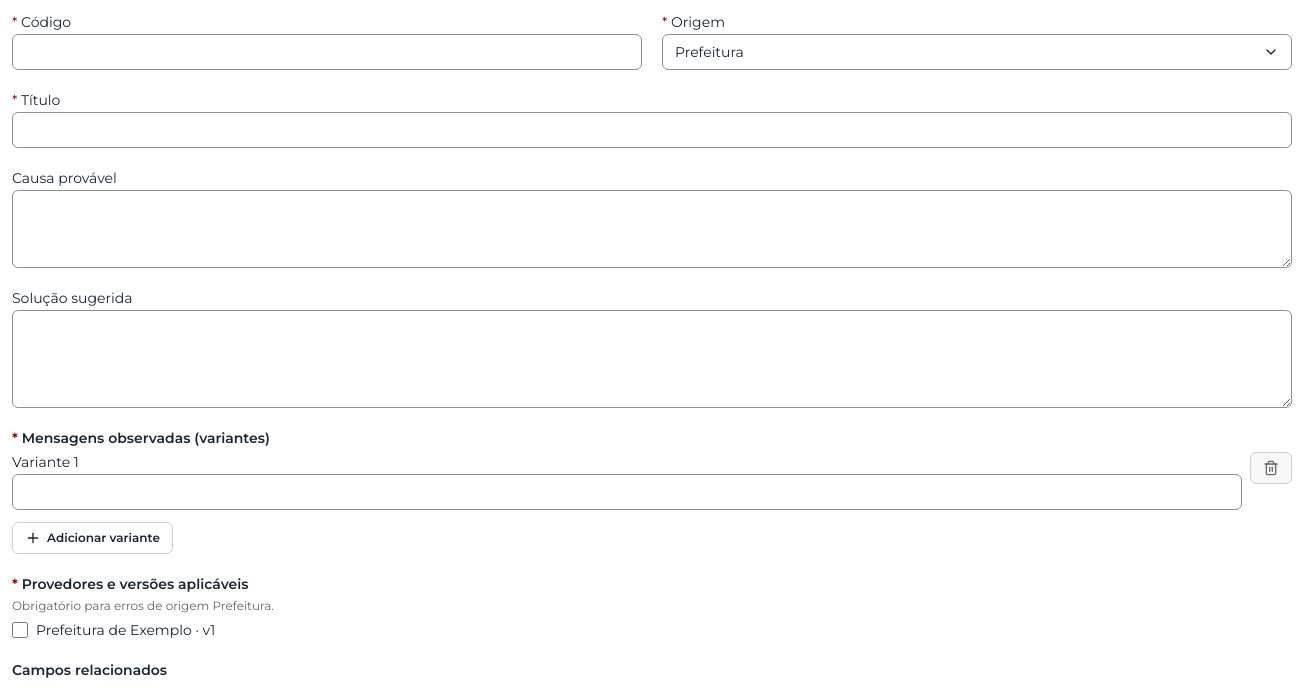
it: ErroForm › useFieldArray: adiciona e remove variantes de mensagem
Check: the field labelled "Variante 1" is shown, box [12, 474, 1242, 510]
Check: the field labelled "Variante 2" is not shown
Click the button "Adicionar variante" at (92, 538), box [12, 522, 173, 554]
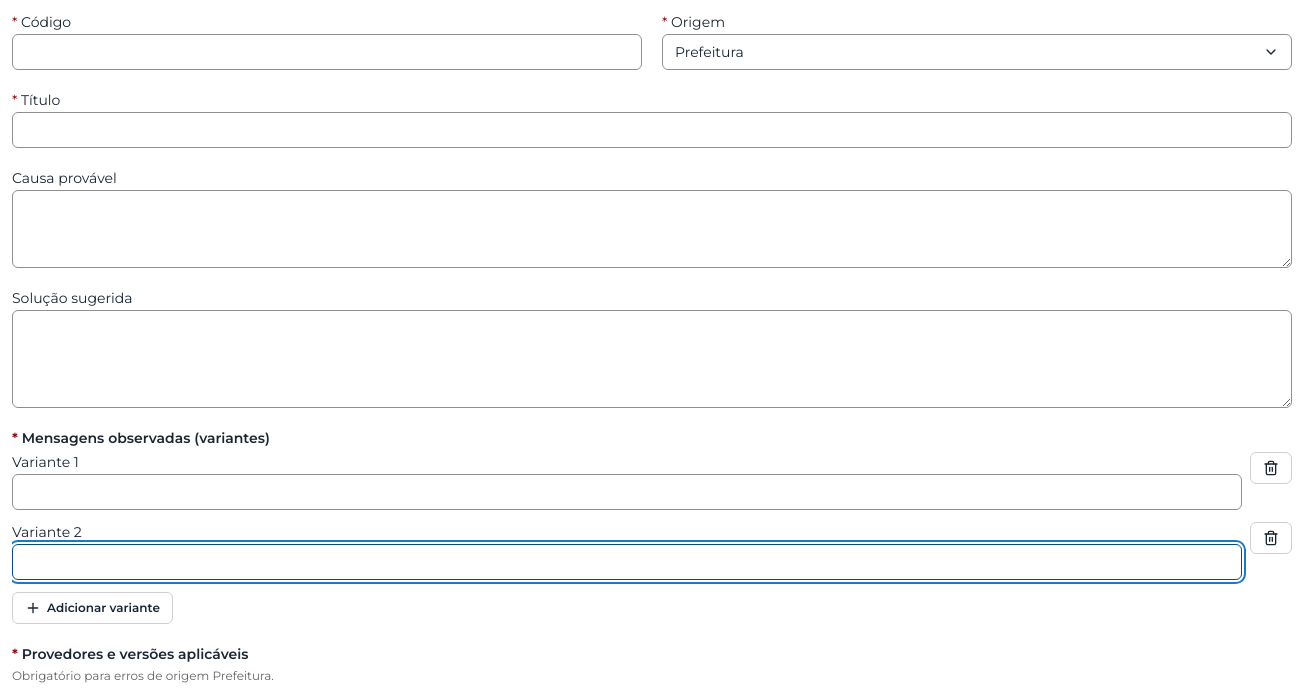
Check: the field labelled "Variante 2" is shown, box [12, 544, 1242, 580]
Click the button named "remover variante 2" at (1271, 538), box [1250, 522, 1292, 554]
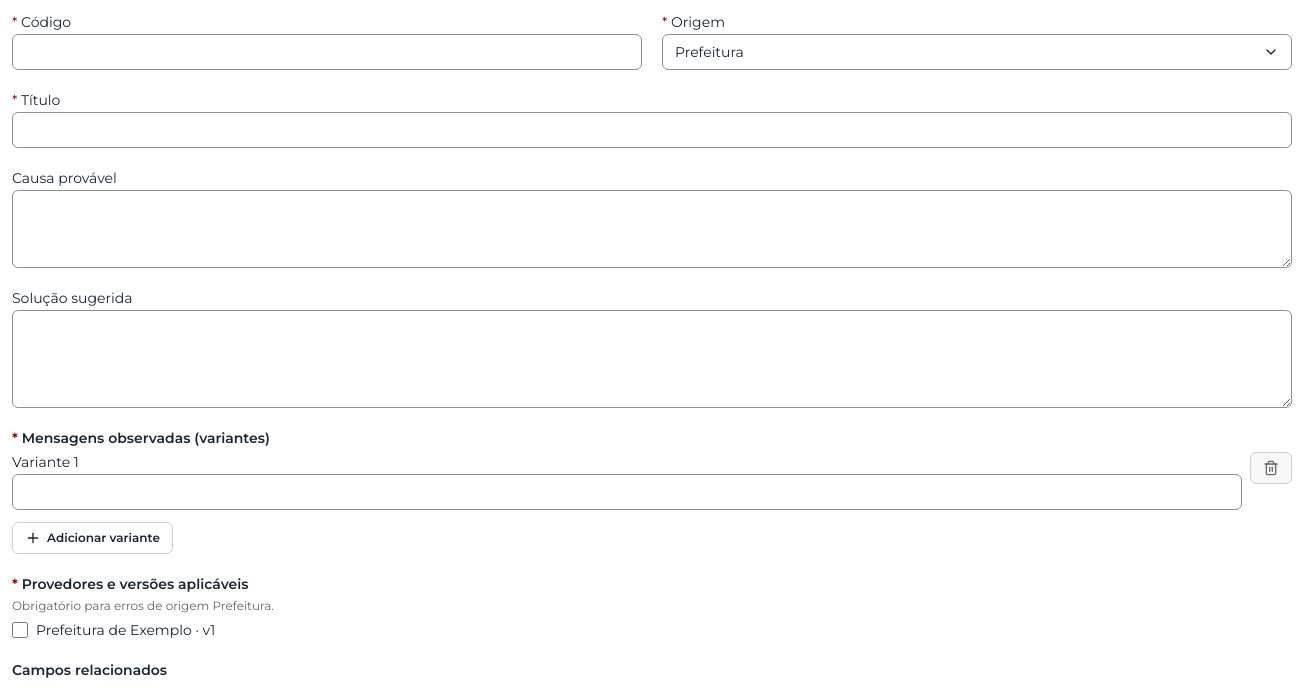
Check: the label labelled "Variante 2" is gone
